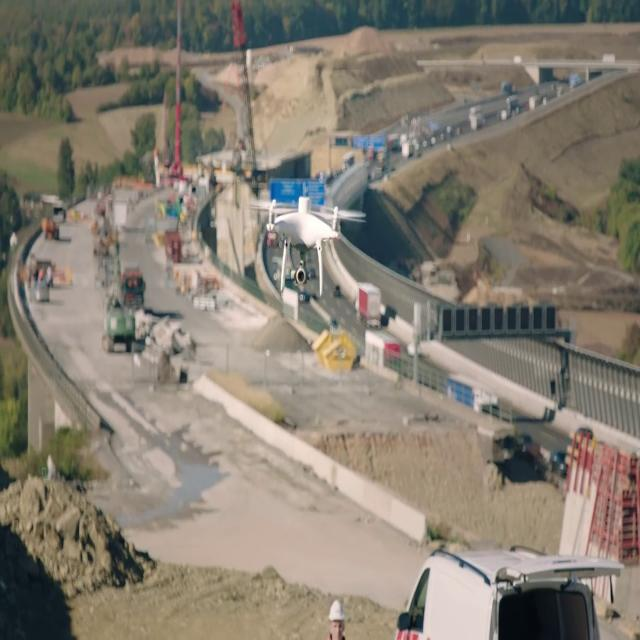drone: (248, 195, 368, 292)
